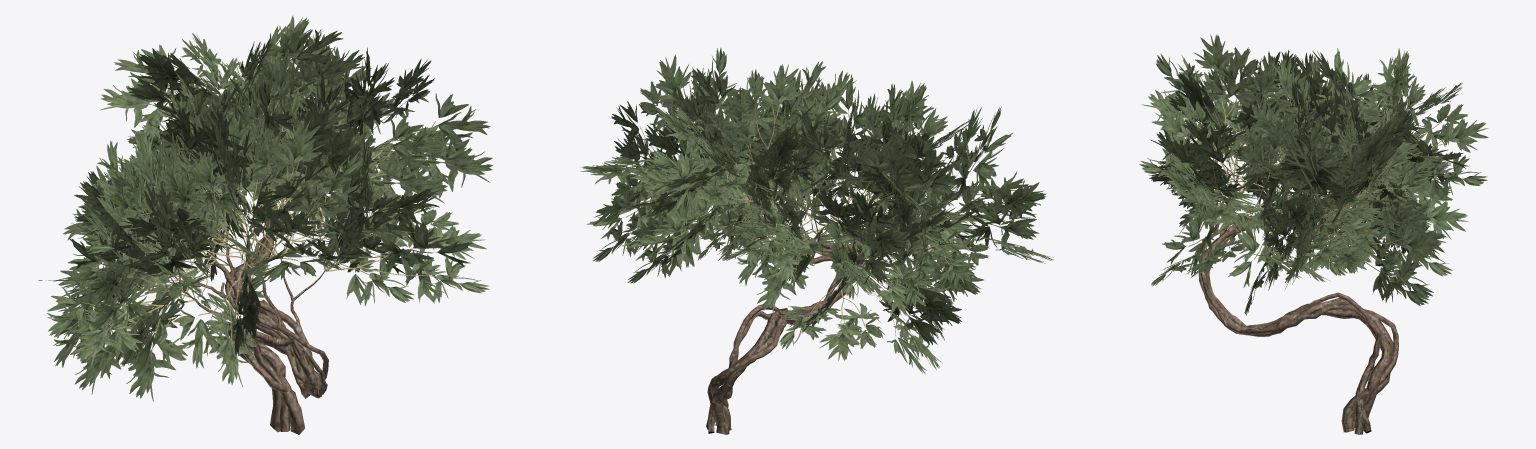
File: tree.fbx
3 views of the same model, side by side, from view 1: azimuth 30°, elevation 25°; view 2: azimuth 150°, elevation 25°; view 3: azimuth 270°, elevation 25° (orthographic). The views are drawn at different scales.
Visible parts, largest first — view 1: Plane.010; view 2: Plane.010; view 3: Plane.010.
Boxes of the visible parts, left/top/right/bottom form: Plane.010: left=38, top=15, right=492, bottom=434; Plane.010: left=580, top=47, right=1053, bottom=434; Plane.010: left=1139, top=34, right=1488, bottom=434.
Size of the model in its own units: 485 by 371 by 372.
